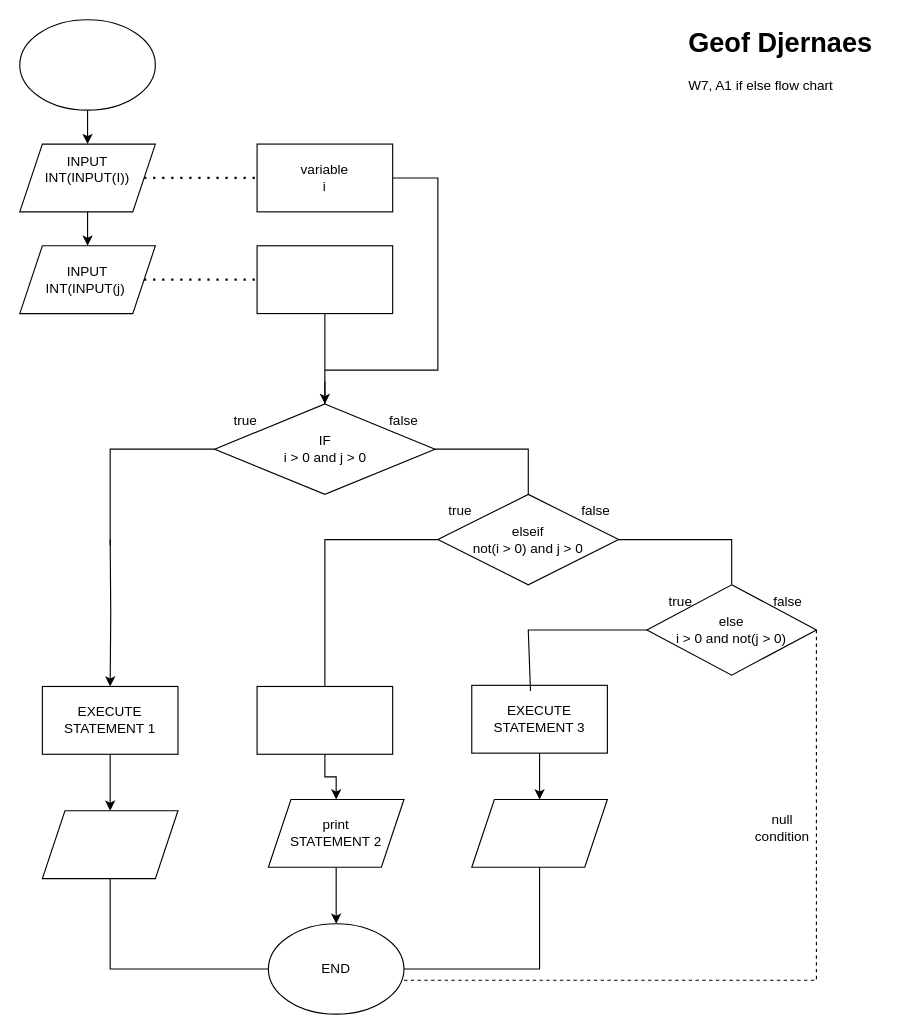
Some shapes in this 910 by 1034 pixel diagram are drawn without their labels. Each missing label, with the centre of its shape:
"EXECUTE STATEMENT 2" goes at point 324,719.
"print STATEMENT 1" goes at point 109,844.
"print STATEMENT 3" goes at point 539,832.
"start" goes at point 87,64.
"variable j" goes at point 324,279.
